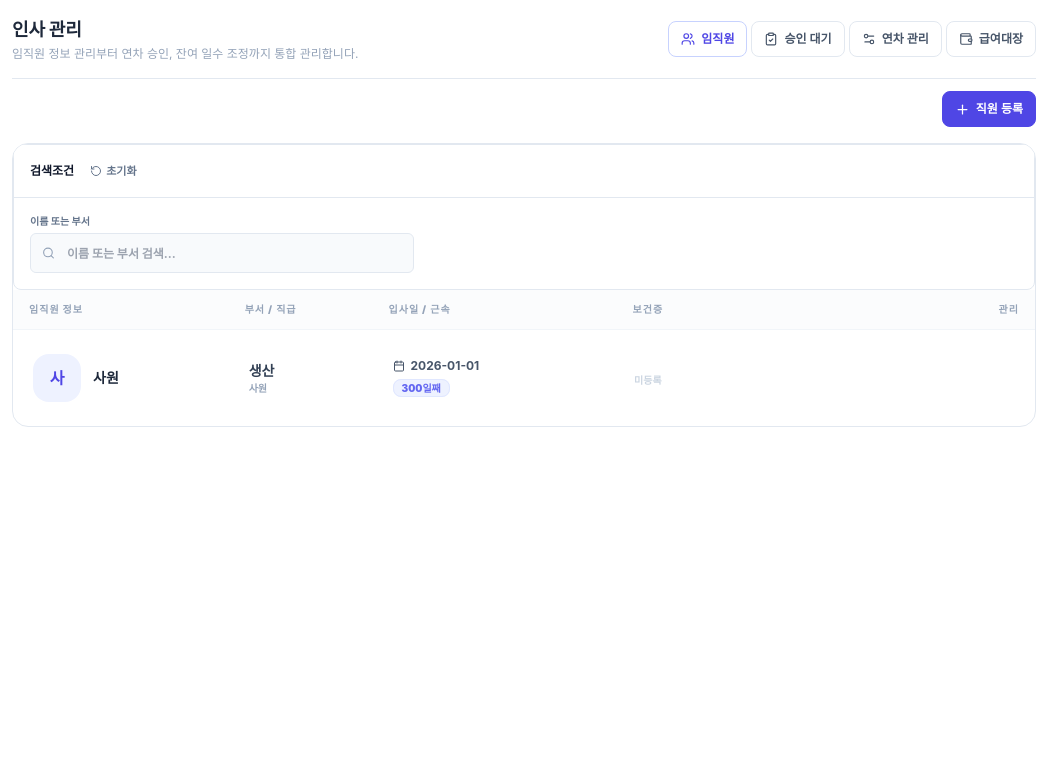
it: 격리 급여 명령 화면 후보 › 발행 대기 중 다른 월로 이동하면 새 월 저장 잠금을 보존한다
This screenshot has width=1048, height=768.
Click the button "급여대장" at x=991, y=39, box [946,21,1036,57]
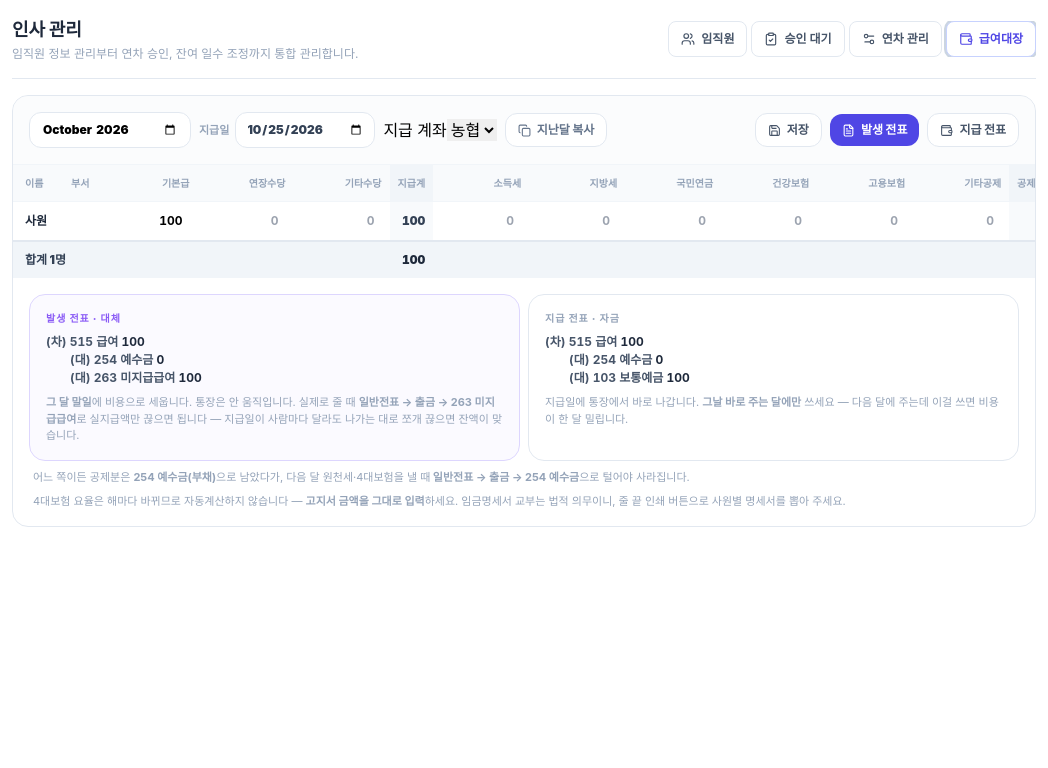
Click the button "발생 전표" at x=875, y=130, box [830,114,920,146]
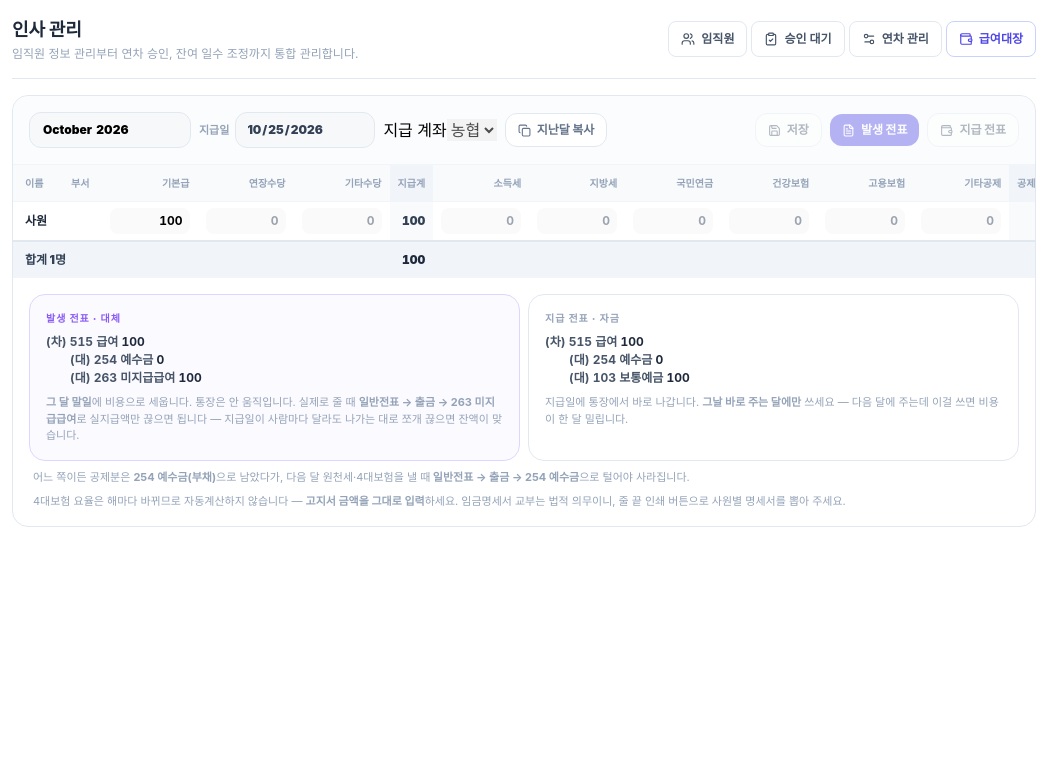
Replace the text in the field named "급여 월" with "2026-11" at x=110, y=130, box [29,112,191,148]
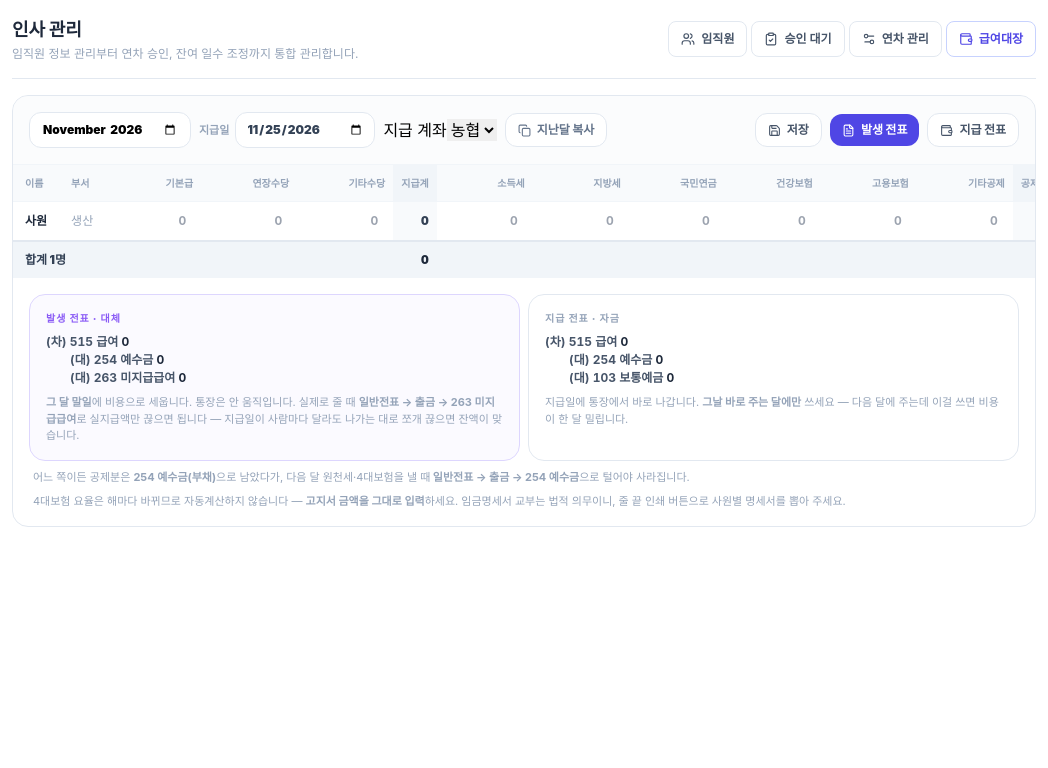
Expected: the button "저장" is enabled, [755,113,822,147]
